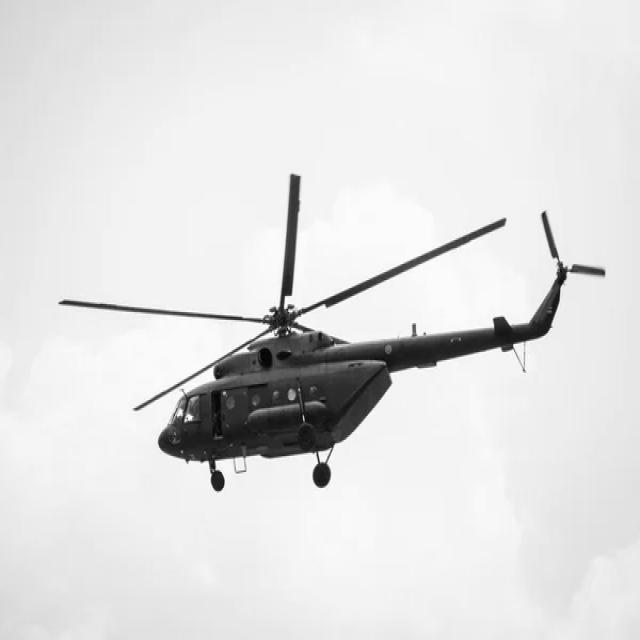Helicopter: (60, 174, 606, 492)
